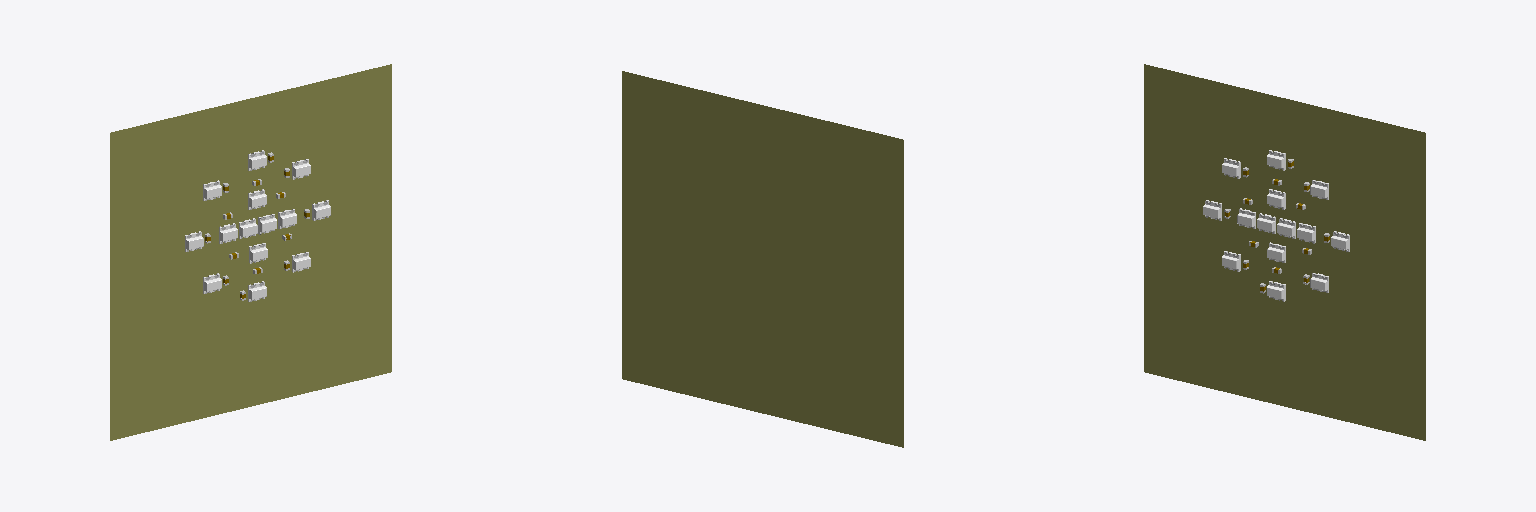
The model's file is OBJ_Back.obj.
3 views of the same model, side by side, from view 1: azimuth 30°, elevation 25°; view 2: azimuth 150°, elevation 25°; view 3: azimuth 330°, elevation 25° (orthographic).
Bounding box in the file's own units: 141 × 148 × 8.3.